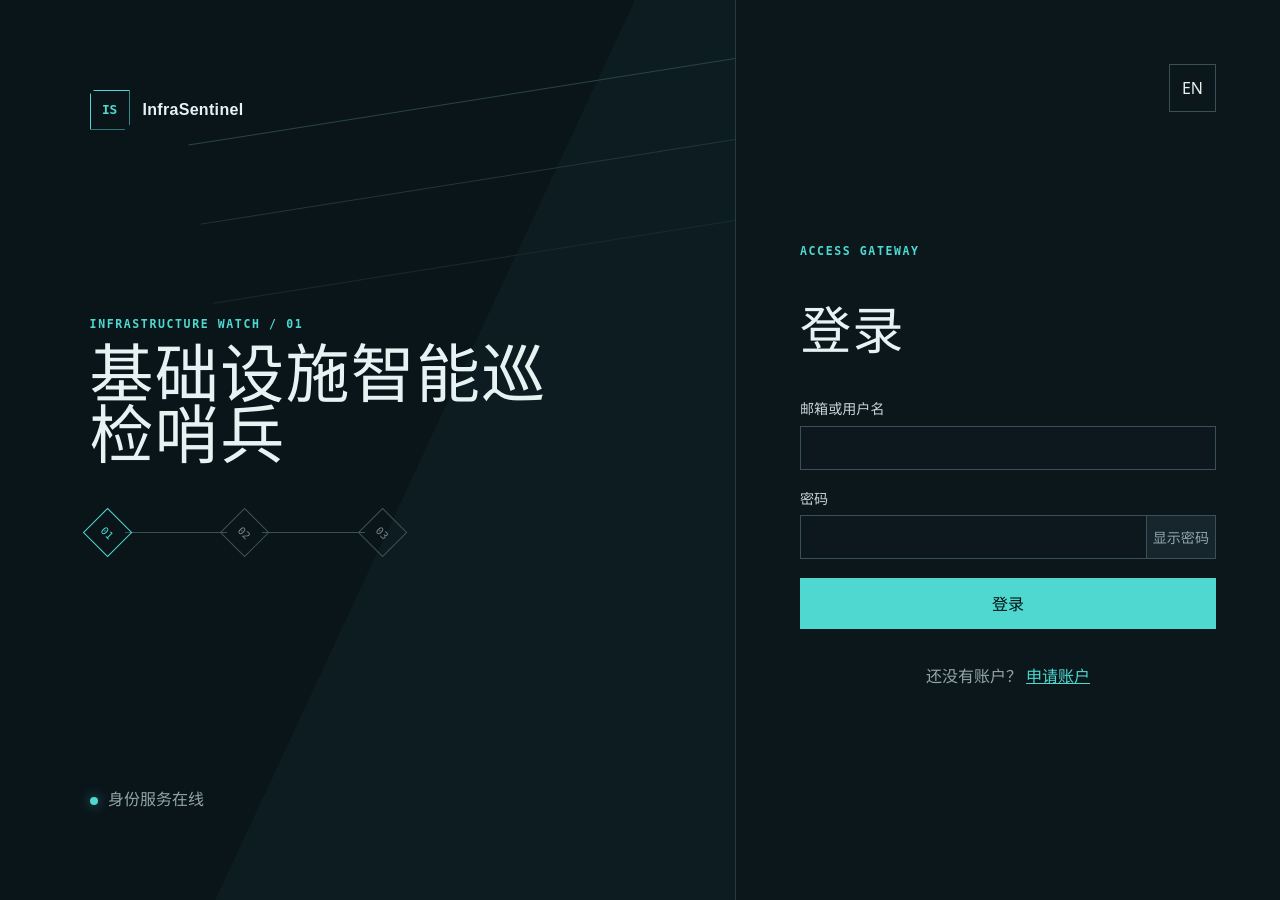
Test: language switch updates public controls
Step 1. Click the button with aria-label "语言" → (1192, 88), box [1169,64,1216,112]
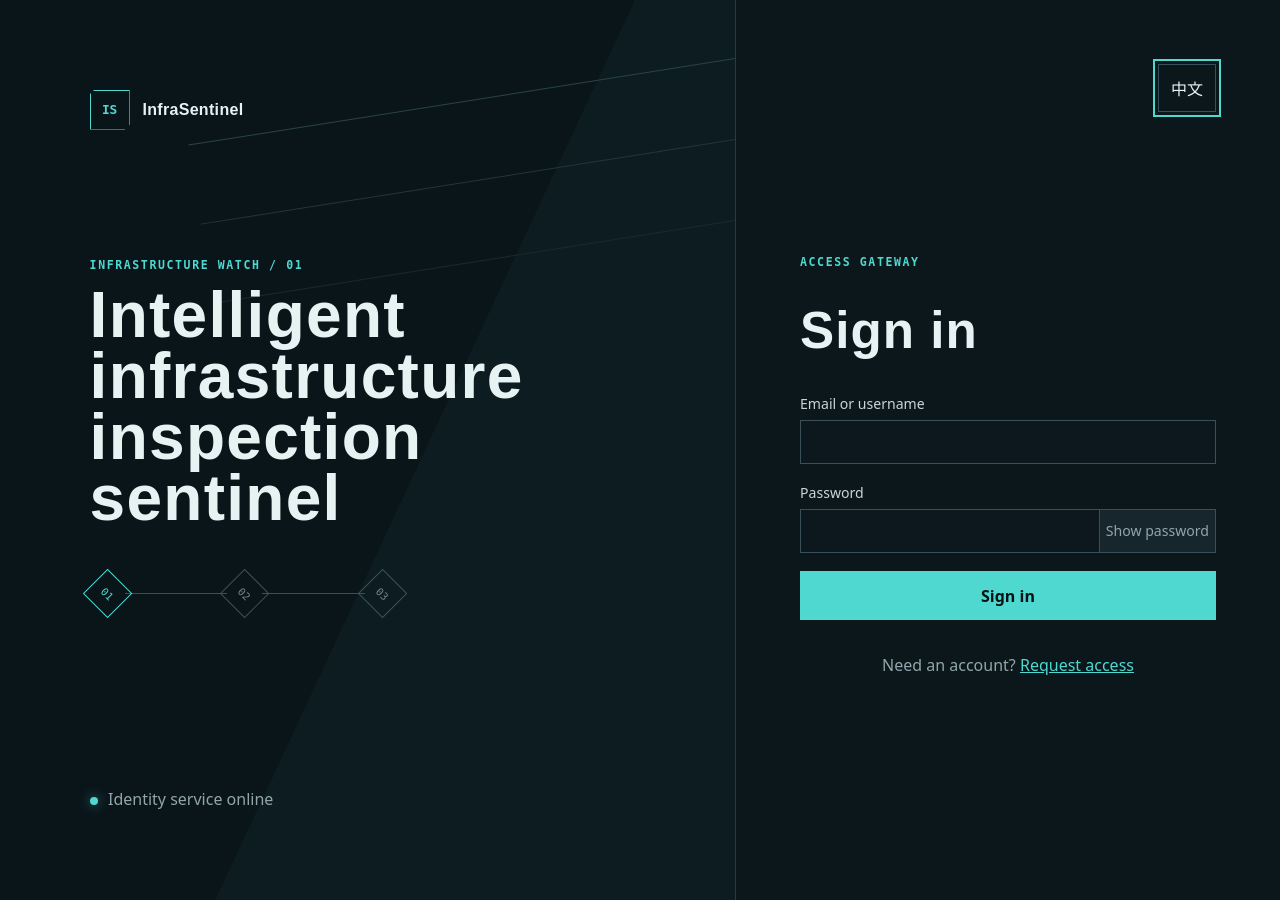
Result: the heading "Sign in" is shown at [800,302,978,358]
